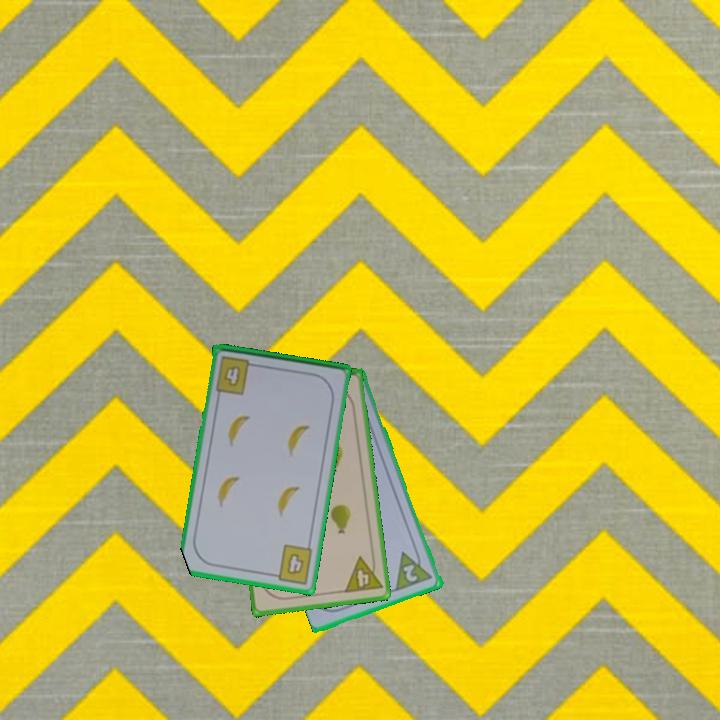2p: (400, 561, 421, 585)
4b: (267, 541, 316, 587), (221, 365, 241, 390)
4p: (341, 552, 385, 596)
